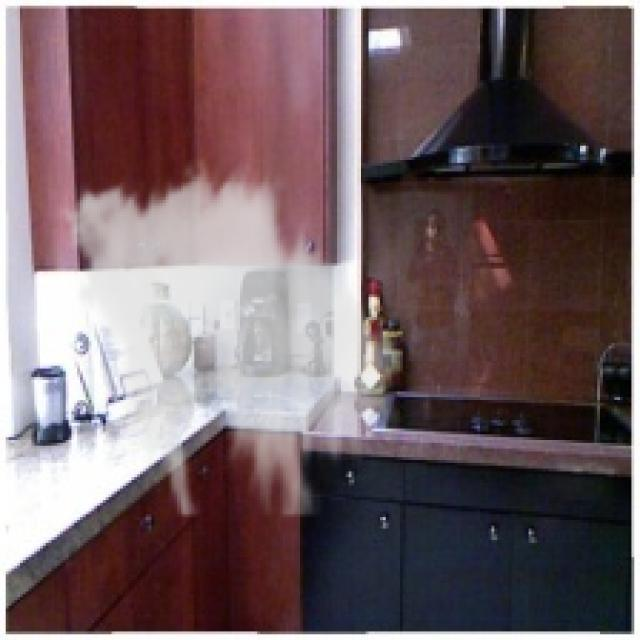Smoke: (51, 157, 408, 517)
